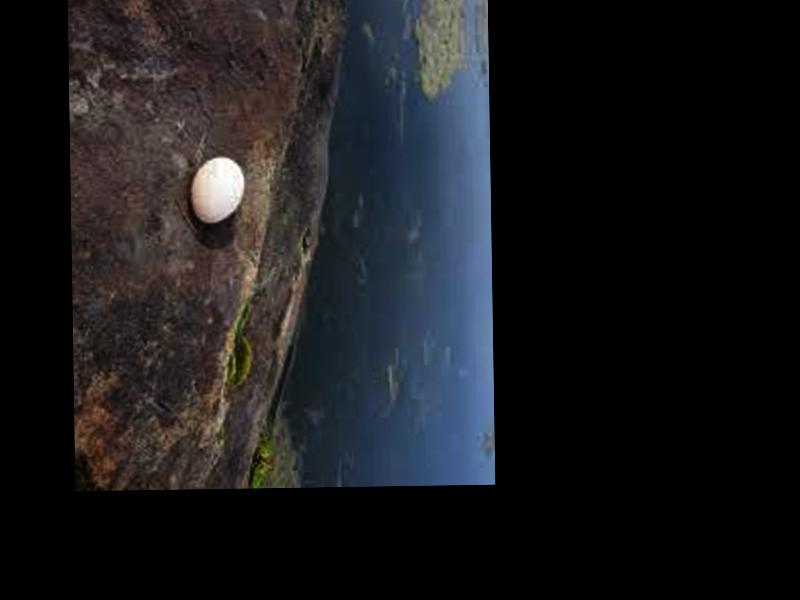Eggs: (191, 153, 246, 223)
